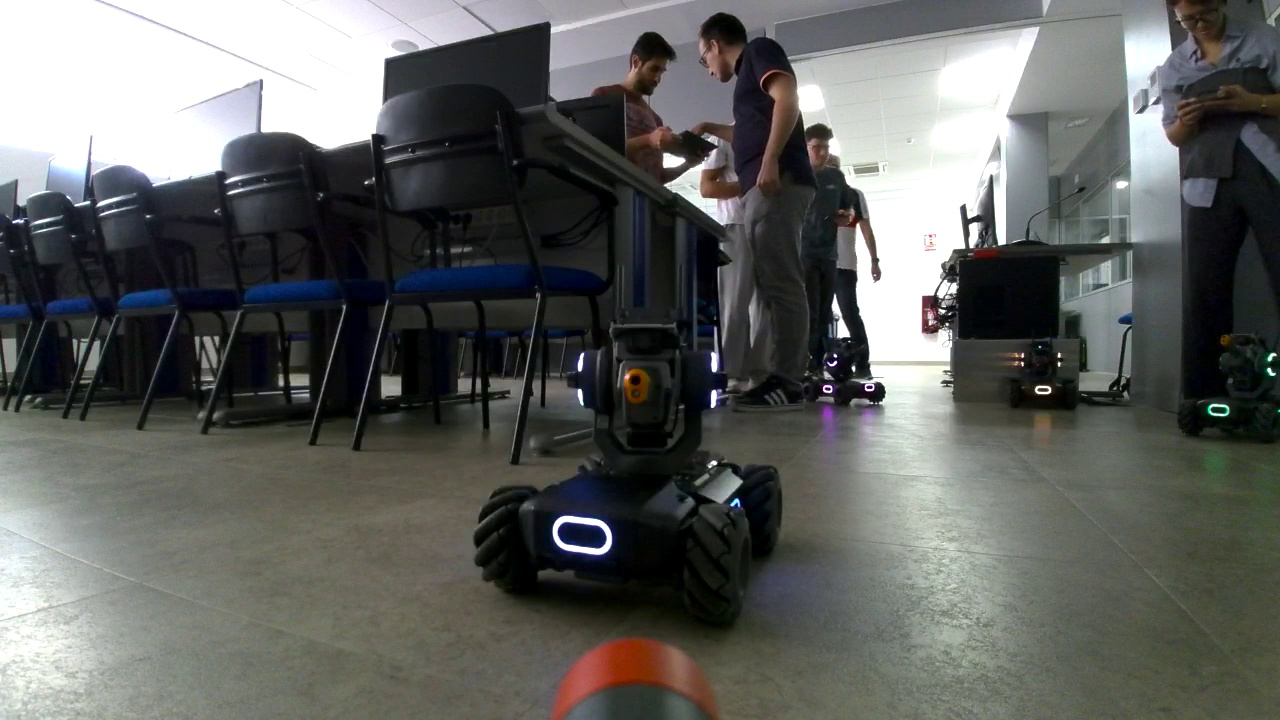robot: (474, 261, 785, 629), (1180, 325, 1280, 442), (804, 337, 887, 405), (1008, 338, 1076, 410)
